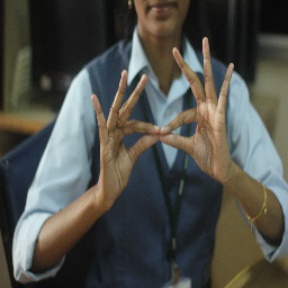B: (114, 100, 213, 178)
